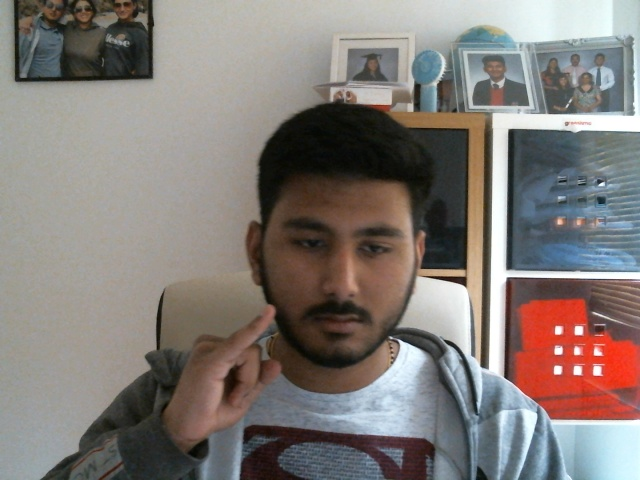bad: (184, 305, 282, 443)
